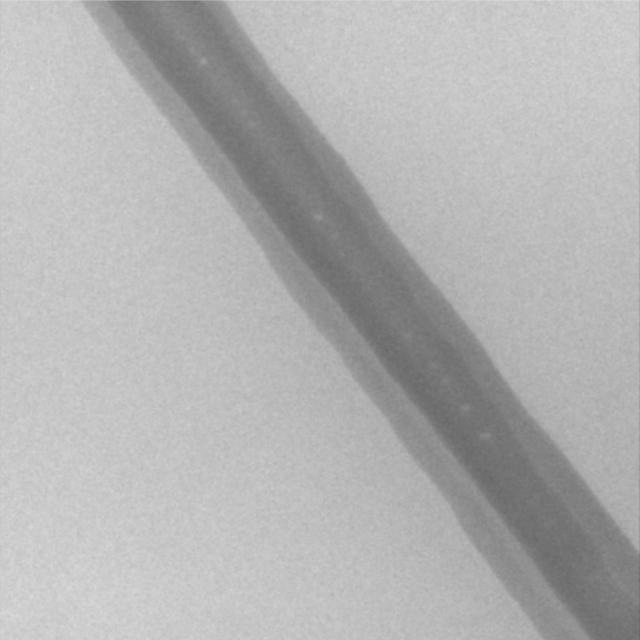air hole: (459, 402, 472, 413), (480, 431, 491, 441), (198, 55, 207, 67), (314, 212, 324, 221)
